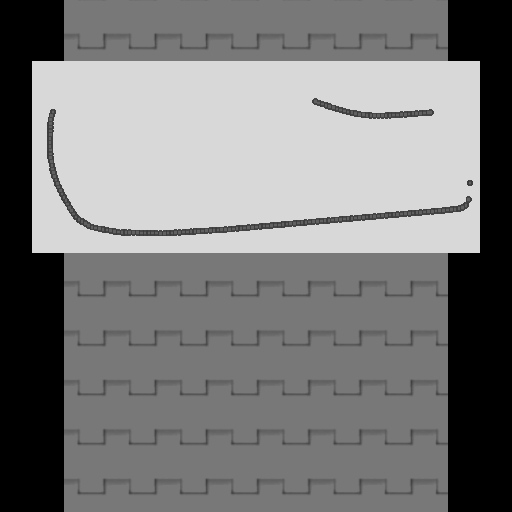Defect: (50, 91, 309, 115)
